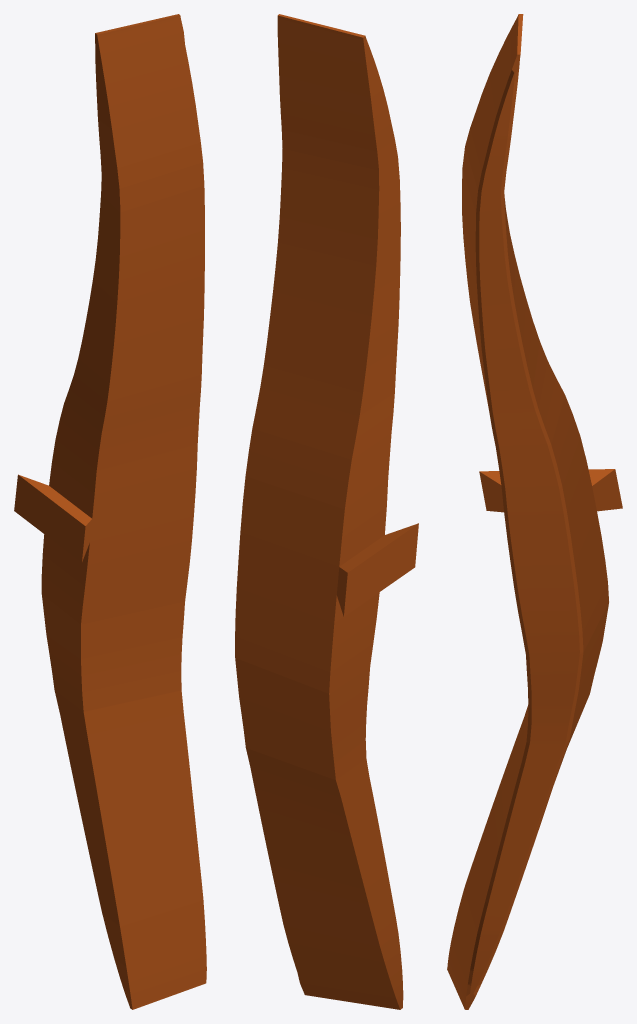
File: SilverVein1.obj
3 views of the same model, side by side, from view 1: azimuth 30°, elevation 25°; view 2: azimuth 150°, elevation 25°; view 3: azimuth 270°, elevation 25° (orthographic). The views are drawn at different scales.
Visible parts, largest first — view 1: Cube; view 2: Cube; view 3: Cube.
Part boxes in pixels (bbox=[...]): Cube: bbox=[14, 14, 206, 1009]; Cube: bbox=[235, 14, 418, 1009]; Cube: bbox=[447, 14, 622, 1009].
Bounding box in the file's own units: 0.3879 × 2.81 × 0.4682.
